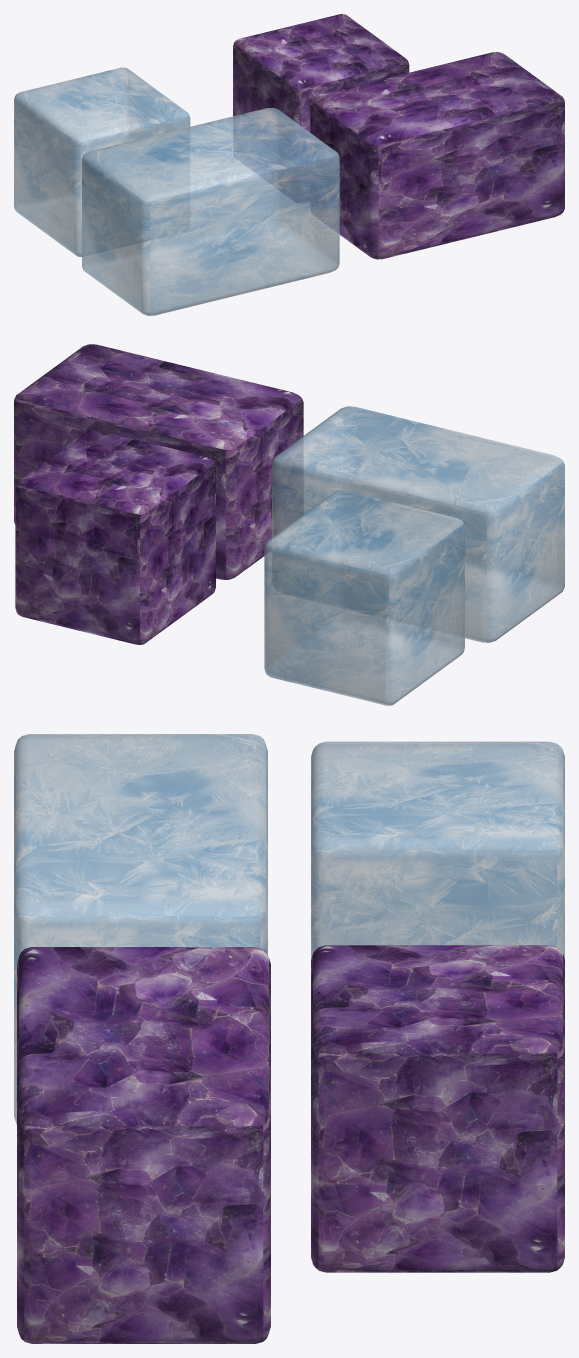
The model's file is Color Tower_Block db.fbx.
3 renders of one model, top to bottom at view 1: azimuth 30°, elevation 25°; view 2: azimuth 150°, elevation 25°; view 3: azimuth 270°, elevation 25°, orthographic. The views are drawn at different scales.
Visible parts, largest first — view 1: Bl Da.001, Bl pha le.001, Bl pha le, Bl Da; view 2: Bl Da, Bl pha le, Bl Da.001, Bl pha le.001; view 3: Bl pha le.001, Bl pha le, Bl Da.001, Bl Da.
Boxes of the visible parts, x1=… form: Bl Da.001: x1=82, y1=107, x2=339, y2=315; Bl pha le.001: x1=310, y1=52, x2=564, y2=259; Bl pha le: x1=233, y1=14, x2=409, y2=202; Bl Da: x1=14, y1=67, x2=190, y2=256; Bl Da: x1=264, y1=490, x2=464, y2=705; Bl pha le: x1=15, y1=429, x2=215, y2=644; Bl Da.001: x1=272, y1=406, x2=564, y2=642; Bl pha le.001: x1=14, y1=344, x2=303, y2=579; Bl pha le.001: x1=17, y1=947, x2=270, y2=1343; Bl pha le: x1=311, y1=945, x2=564, y2=1272; Bl Da.001: x1=14, y1=734, x2=267, y2=1124; Bl Da: x1=311, y1=741, x2=564, y2=959.
Size of the model in its own units: 7.35 by 4.34 by 2.
Materials: 2 (2 with a texture image).
